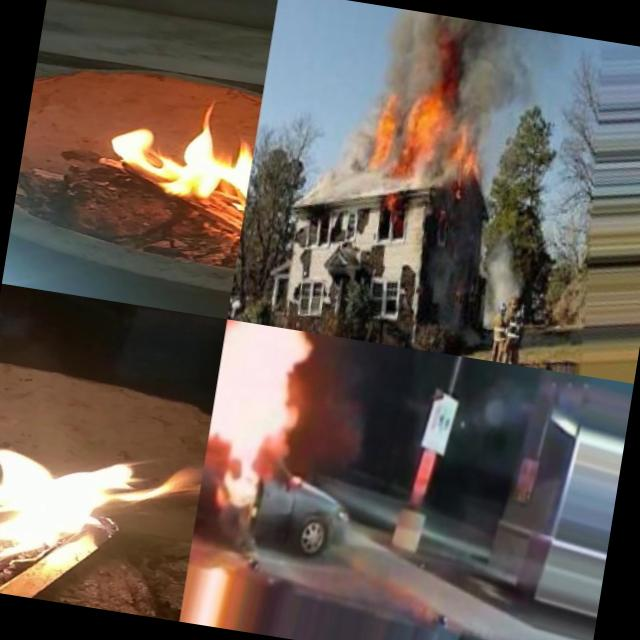fire: (0, 429, 204, 607), (88, 104, 258, 258), (202, 320, 304, 486), (400, 90, 448, 172), (364, 92, 403, 170)
smoke: (365, 5, 554, 116)
